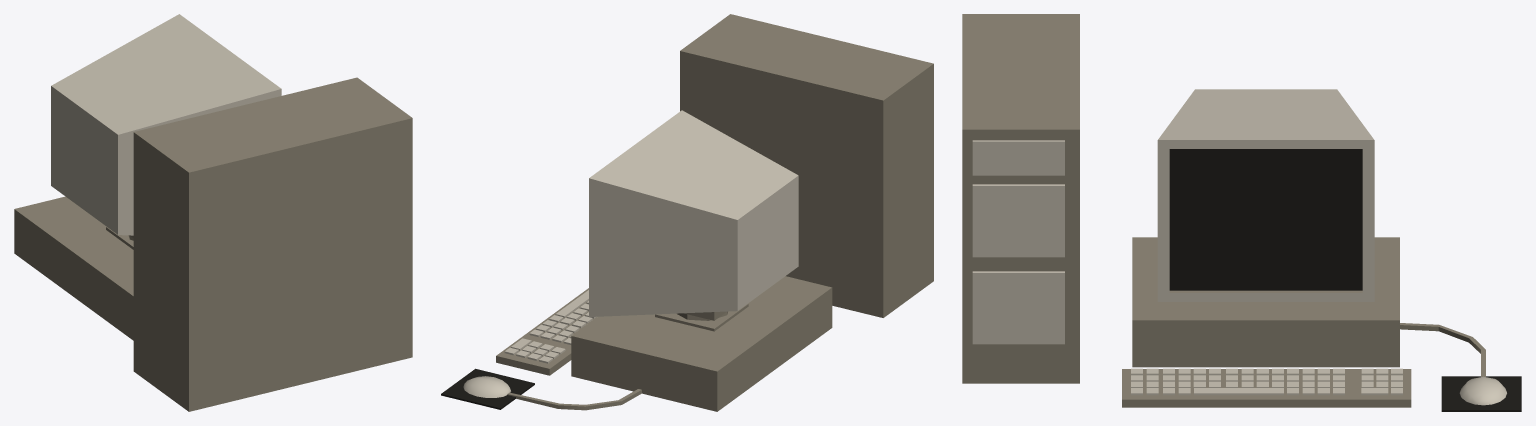
File: Computer.fbx
3 views of the same model, side by side, from view 1: azimuth 30°, elevation 25°; view 2: azimuth 150°, elevation 25°; view 3: azimuth 270°, elevation 25° (orthographic). The views are drawn at different scales.
Visible parts, largest first — view 1: pCube80; view 2: pCube80; view 3: pCube80.
Part boxes in pixels (box(x1,y1,x2,y2)): pCube80: box(14, 14, 412, 411); pCube80: box(441, 14, 933, 411); pCube80: box(962, 14, 1521, 411).
Bounding box in the file's own units: 4.25 × 3.5 × 6.99.
